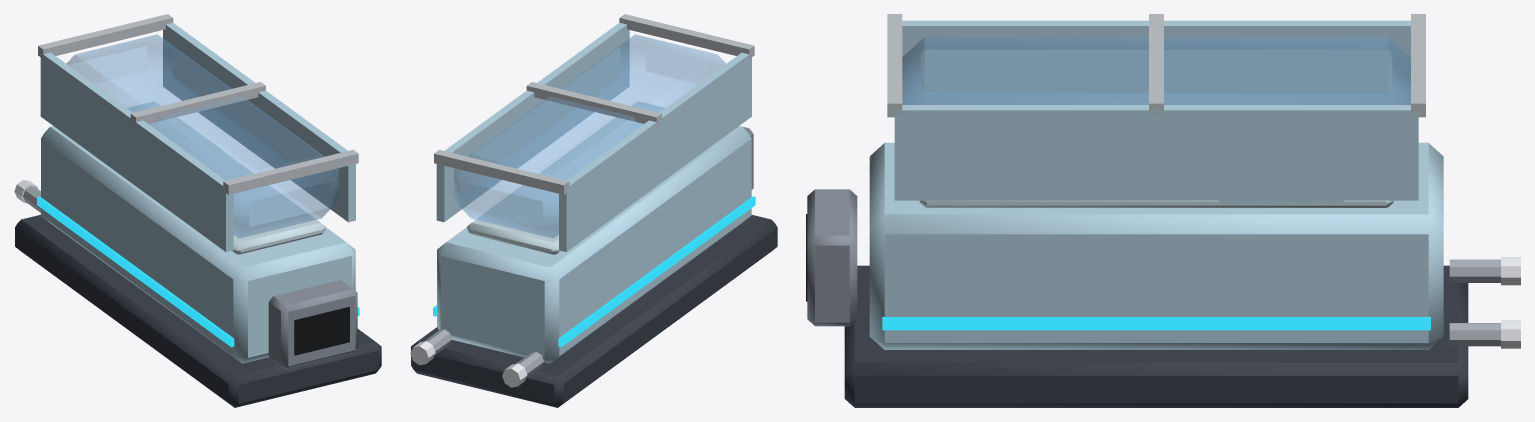
File: cryo_cryo_stasis_pod.glb
The picture shows the model from 3 angles, left to right: view 1: azimuth 30°, elevation 25°; view 2: azimuth 150°, elevation 25°; view 3: azimuth 270°, elevation 25°; orthographic projection. The views are drawn at different scales.
Parts seen in each view (by area): view 1: cryo_cryo_stasis_pod; view 2: cryo_cryo_stasis_pod; view 3: cryo_cryo_stasis_pod.
Boxes of the visible parts, x1,y1,x2,y2 form: cryo_cryo_stasis_pod: (14, 14, 381, 407); cryo_cryo_stasis_pod: (410, 14, 777, 407); cryo_cryo_stasis_pod: (806, 14, 1520, 407).
Size of the model in its own units: 1 by 1.33 by 2.87.
